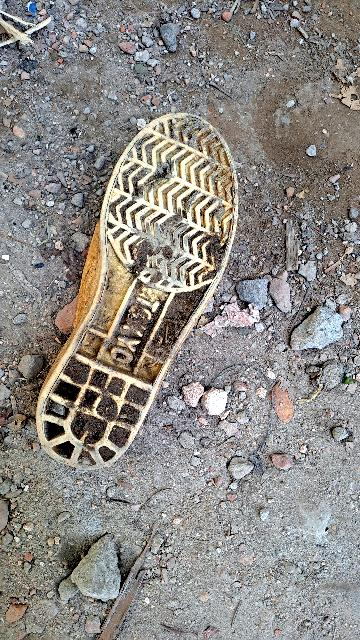sandal: (0, 89, 287, 483)
